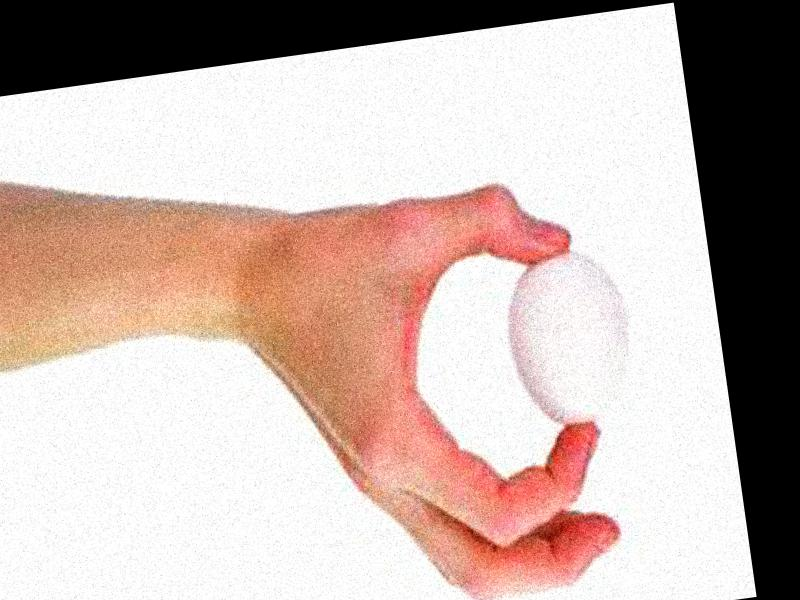Eggs: (498, 245, 641, 433)
